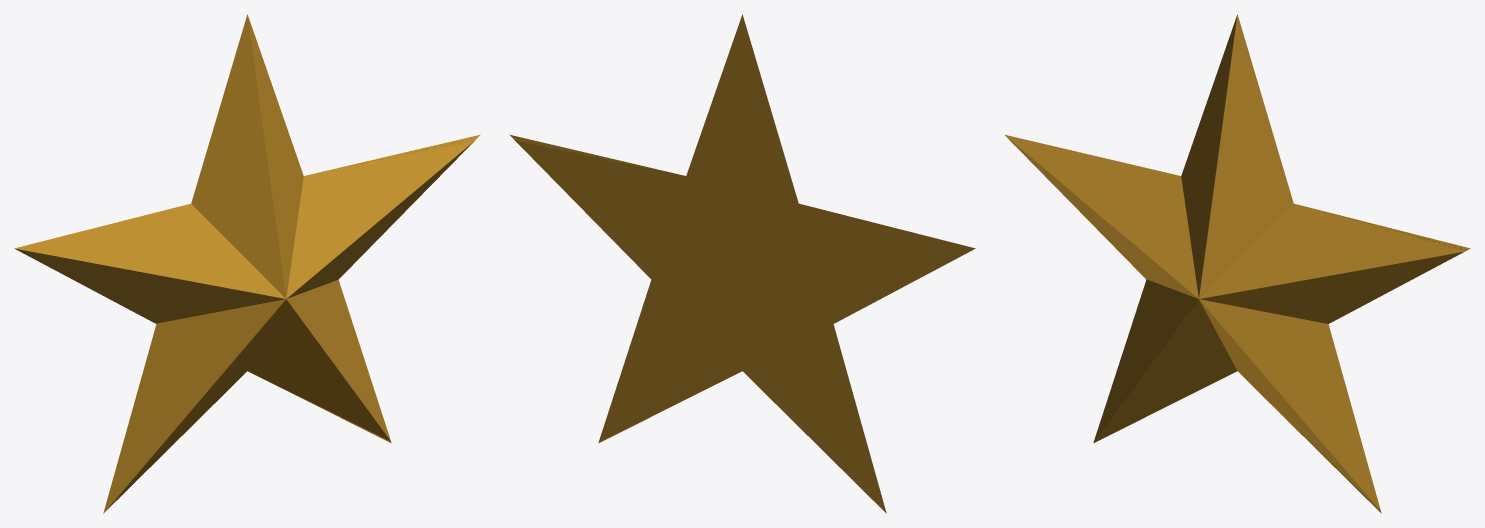
3 renders of one model, left to right at view 1: azimuth 30°, elevation 25°; view 2: azimuth 150°, elevation 25°; view 3: azimuth 330°, elevation 25°, orthographic.
Parts seen in each view (by area): view 1: Circle; view 2: Circle; view 3: Circle.
Boxes of the visible parts, x1=… form: Circle: x1=14, y1=14, x2=480, y2=513; Circle: x1=509, y1=14, x2=975, y2=513; Circle: x1=1004, y1=14, x2=1470, y2=513.
Size of the model in its own units: 1.9 by 1.81 by 0.273.
